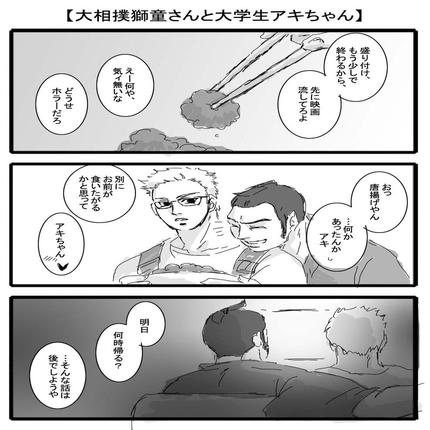bubble: (95, 54, 153, 117)
